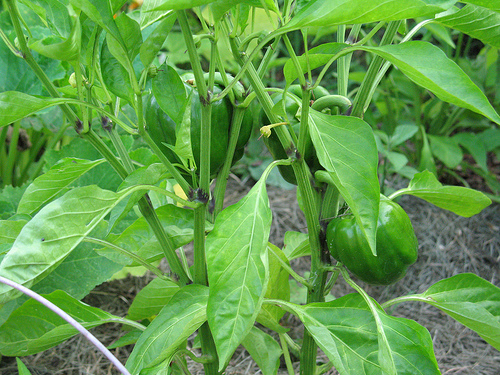capsicum: (325, 193, 421, 286), (171, 72, 254, 173)
